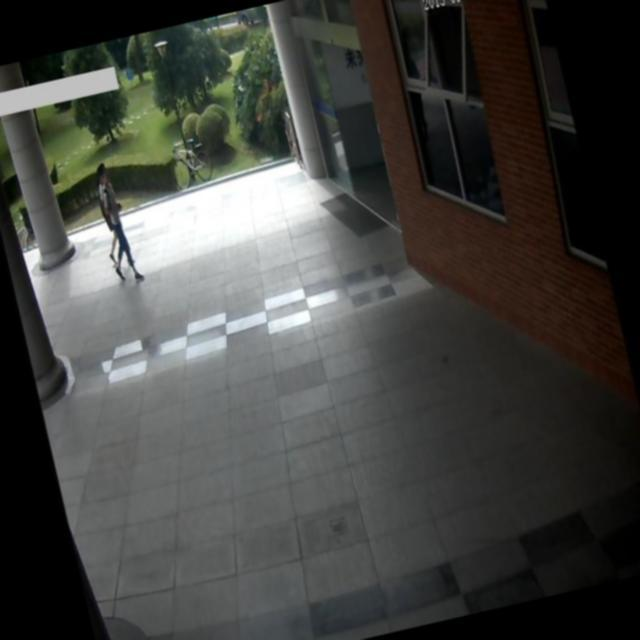person: (96, 158, 146, 290)
